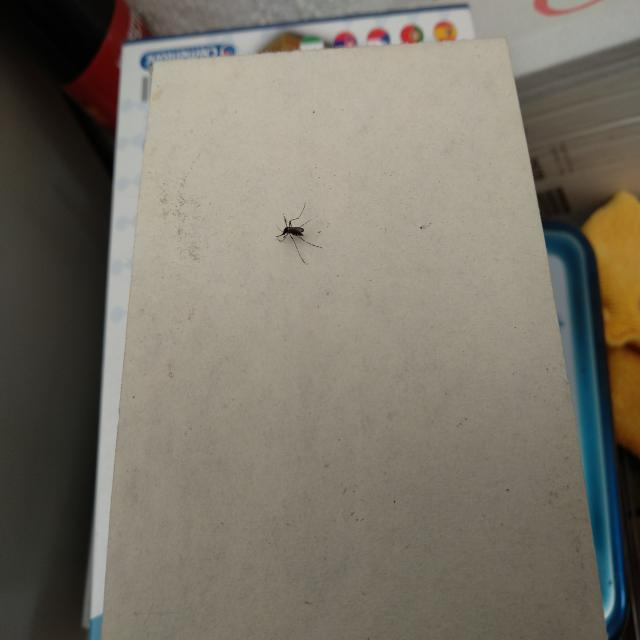albopictus: (273, 198, 323, 265)
